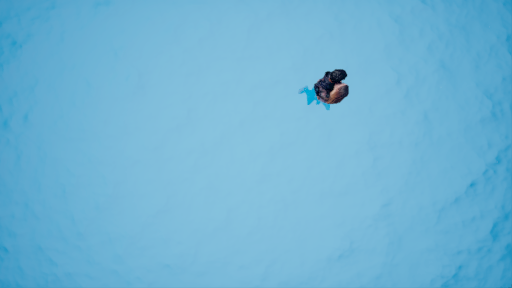person: (298, 66, 352, 114)
